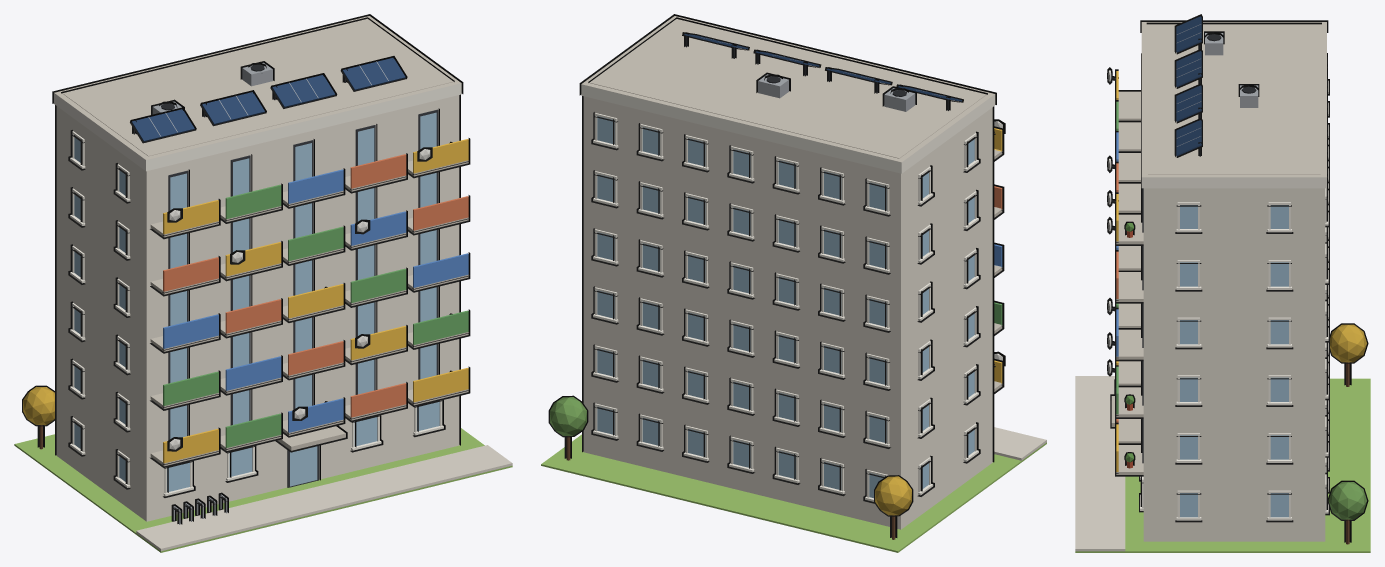
The model's file is Konut_balkonlu_blok_2.fbx.
3 views of the same model, side by side, from view 1: azimuth 30°, elevation 25°; view 2: azimuth 150°, elevation 25°; view 3: azimuth 270°, elevation 25° (orthographic).
Visible parts, largest first — view 1: Konut_balkonlu_blok_2; view 2: Konut_balkonlu_blok_2; view 3: Konut_balkonlu_blok_2.
Part boxes in pixels (bbox=[...]): Konut_balkonlu_blok_2: bbox=[14, 14, 512, 552]; Konut_balkonlu_blok_2: bbox=[541, 14, 1046, 552]; Konut_balkonlu_blok_2: bbox=[1075, 14, 1370, 552].
Bounding box in the file's own units: 18.22 × 18.56 × 13.
